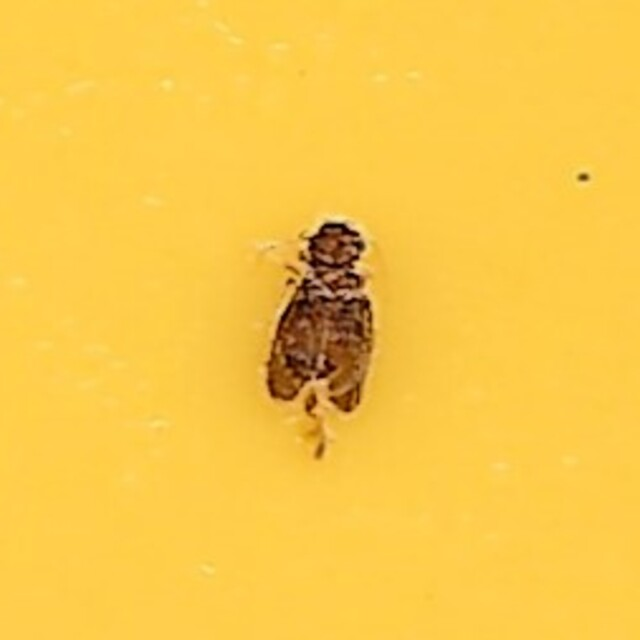Hemiptera: (253, 224, 387, 416)
